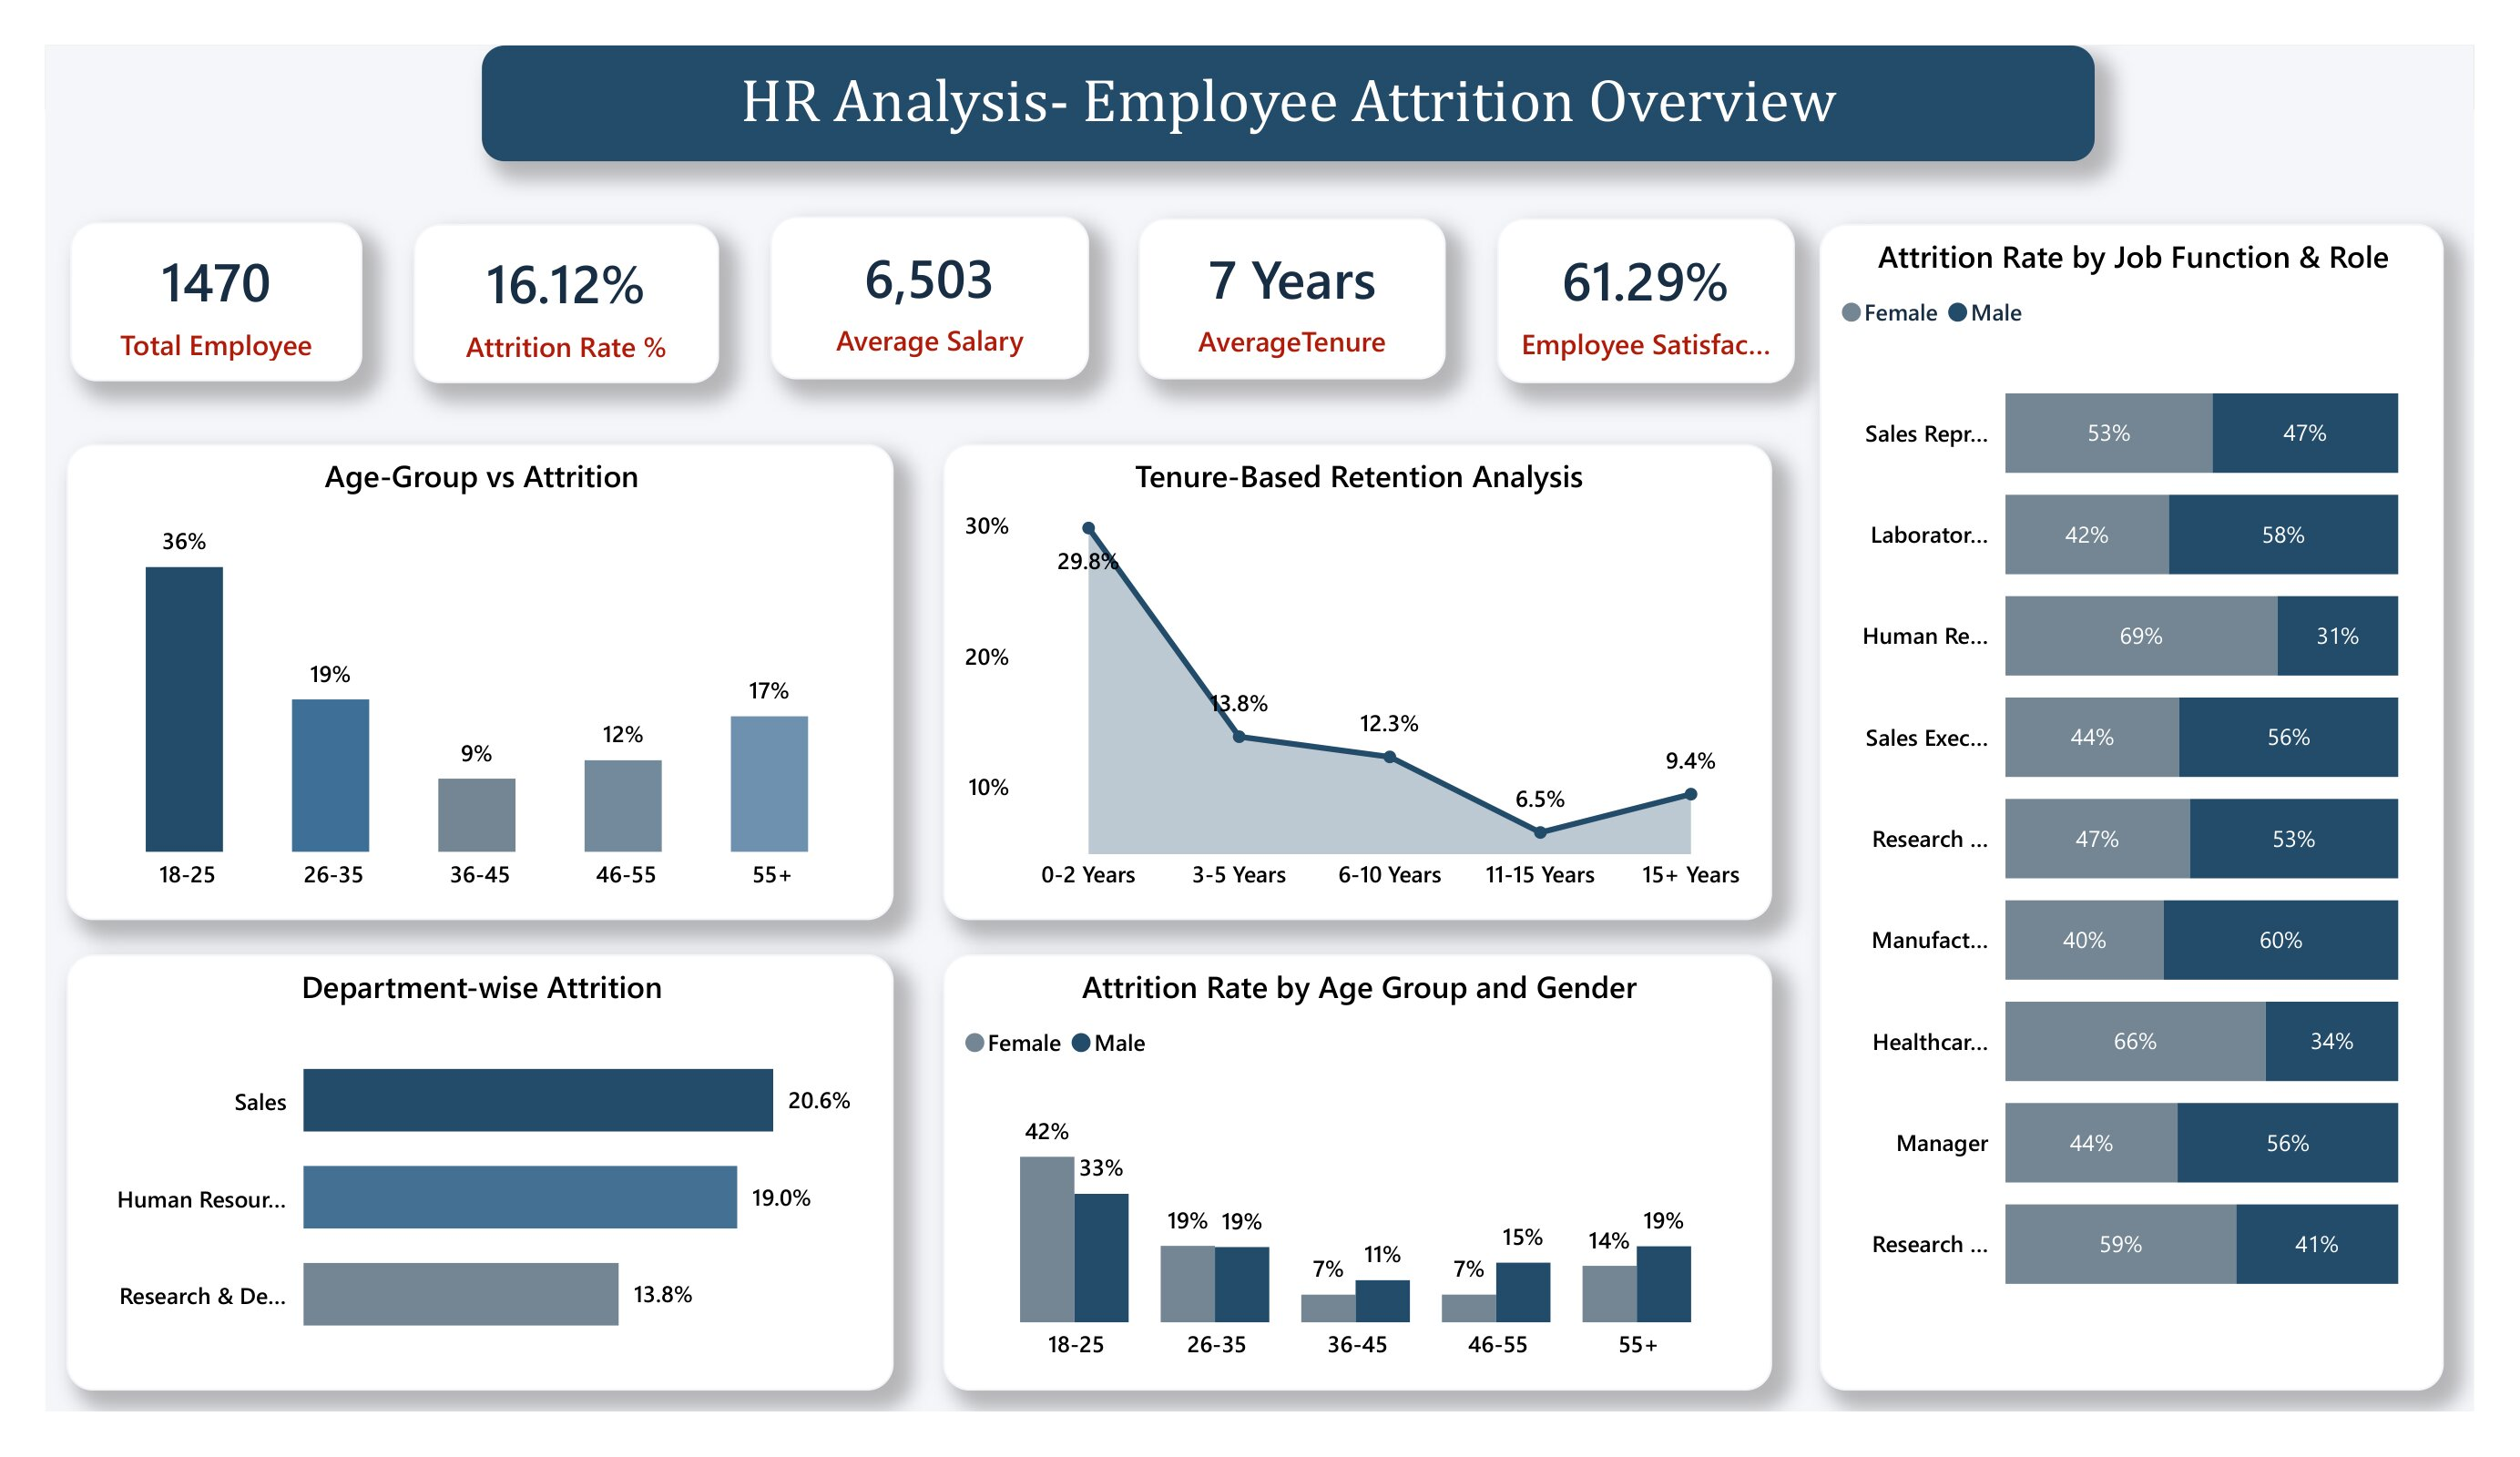

The page's visual inventory and layout, read from the dashboard file:
{"tool":"powerbi","page":{"name":" Employee overview","canvas":[1280,720],"ordinal":0},"visuals":[{"type":"card","fields":{"Values":["Sum(employee_attrition.EmployeeCount)"]},"box":[12.8,92.9,154.3,84.3],"z":0},{"type":"card","fields":{"Values":["employee_attrition.Attrition Rate %"]},"box":[194.1,93.6,161.4,84.3],"z":1000},{"type":"card","fields":{"Values":["employee_attrition.Average Salary"]},"box":[382.4,90,167.1,85.7],"z":2000},{"type":"card","fields":{"Values":["employee_attrition.Avg Years at Company"]},"box":[576.5,90.7,161.4,85.7],"z":3000},{"type":"card","fields":{"Values":["employee_attrition.Avg Job Satisfaction"]},"box":[764.9,91.3,157,87],"z":4000},{"type":"columnChart","title":"Age-Group vs Attrition","fields":{"Y":["employee_attrition.Attrition Rate %"],"Category":["employee_attrition.Age Group"]},"box":[11.4,210,435.7,251.4],"z":5000},{"type":"lineChart","title":"Tenure-Based Retention Analysis","fields":{"Category":["employee_attrition.Experience Group"],"Y":["employee_attrition.Attrition Rate %"]},"box":[472.9,210,437.1,251.4],"z":6000},{"type":"barChart","title":"Department-wise Attrition","fields":{"Category":["employee_attrition.Department"],"Y":["employee_attrition.Attrition Rate %"]},"box":[11.4,478.6,435.7,230],"z":7000},{"type":"textbox","box":[229.6,0,850.4,60.9],"z":8000},{"type":"hundredPercentStackedBarChart","title":"Attrition Rate by Job Function & Role","fields":{"Category":["employee_attrition.JobRole"],"Y":["employee_attrition.Attrition Rate %"],"Series":["employee_attrition.Gender"]},"box":[935.4,93.5,328.8,615.1],"z":9000},{"type":"clusteredColumnChart","title":"Attrition Rate by Age Group and Gender","fields":{"Y":["employee_attrition.Attrition Rate %"],"Category":["employee_attrition.Age Group"],"Series":["employee_attrition.Gender"]},"box":[473,479,437,230],"z":10000}]}

Visuals, with their boxes on the page's 1280x720 design canvas (x1, y1, x2, y2). These are canvas units, not pixel positions in the 2520x1457 screenshot, which may show the page scaled, cropped or inside an application window:
card - Sum(employee_attrition.EmployeeCount): 13, 93, 167, 177
card - employee_attrition.Attrition Rate %: 194, 94, 356, 178
card - employee_attrition.Average Salary: 382, 90, 550, 176
card - employee_attrition.Avg Years at Company: 576, 91, 738, 176
card - employee_attrition.Avg Job Satisfaction: 765, 91, 922, 178
"Age-Group vs Attrition" columnChart: 11, 210, 447, 461
"Tenure-Based Retention Analysis" lineChart: 473, 210, 910, 461
"Department-wise Attrition" barChart: 11, 479, 447, 709
textbox: 230, 0, 1080, 61
"Attrition Rate by Job Function & Role" hundredPercentStackedBarChart: 935, 94, 1264, 709
"Attrition Rate by Age Group and Gender" clusteredColumnChart: 473, 479, 910, 709
